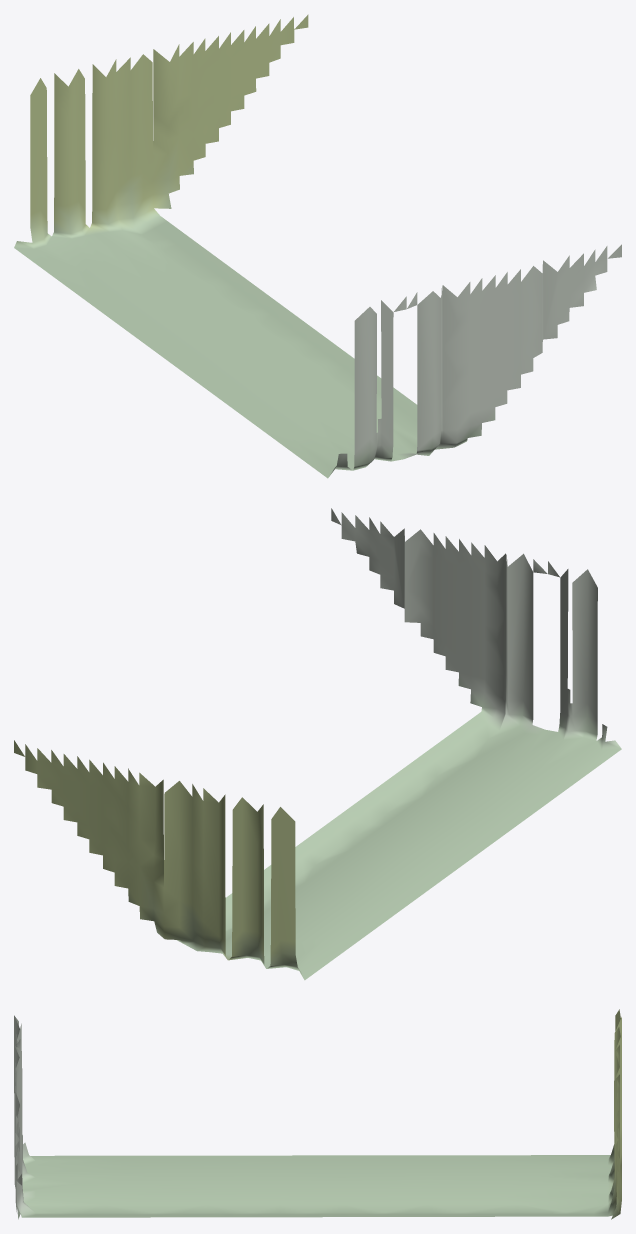
Rendered from tile_7e4ccbd5fe0e_0_-1_-2_0_lod1.glb.
3 renders of one model, top to bottom at view 1: azimuth 30°, elevation 25°; view 2: azimuth 150°, elevation 25°; view 3: azimuth 270°, elevation 25°, orthographic. The views are drawn at different scales.
Bounding box in the file's own units: 1.84 × 1.03 × 3.48.
